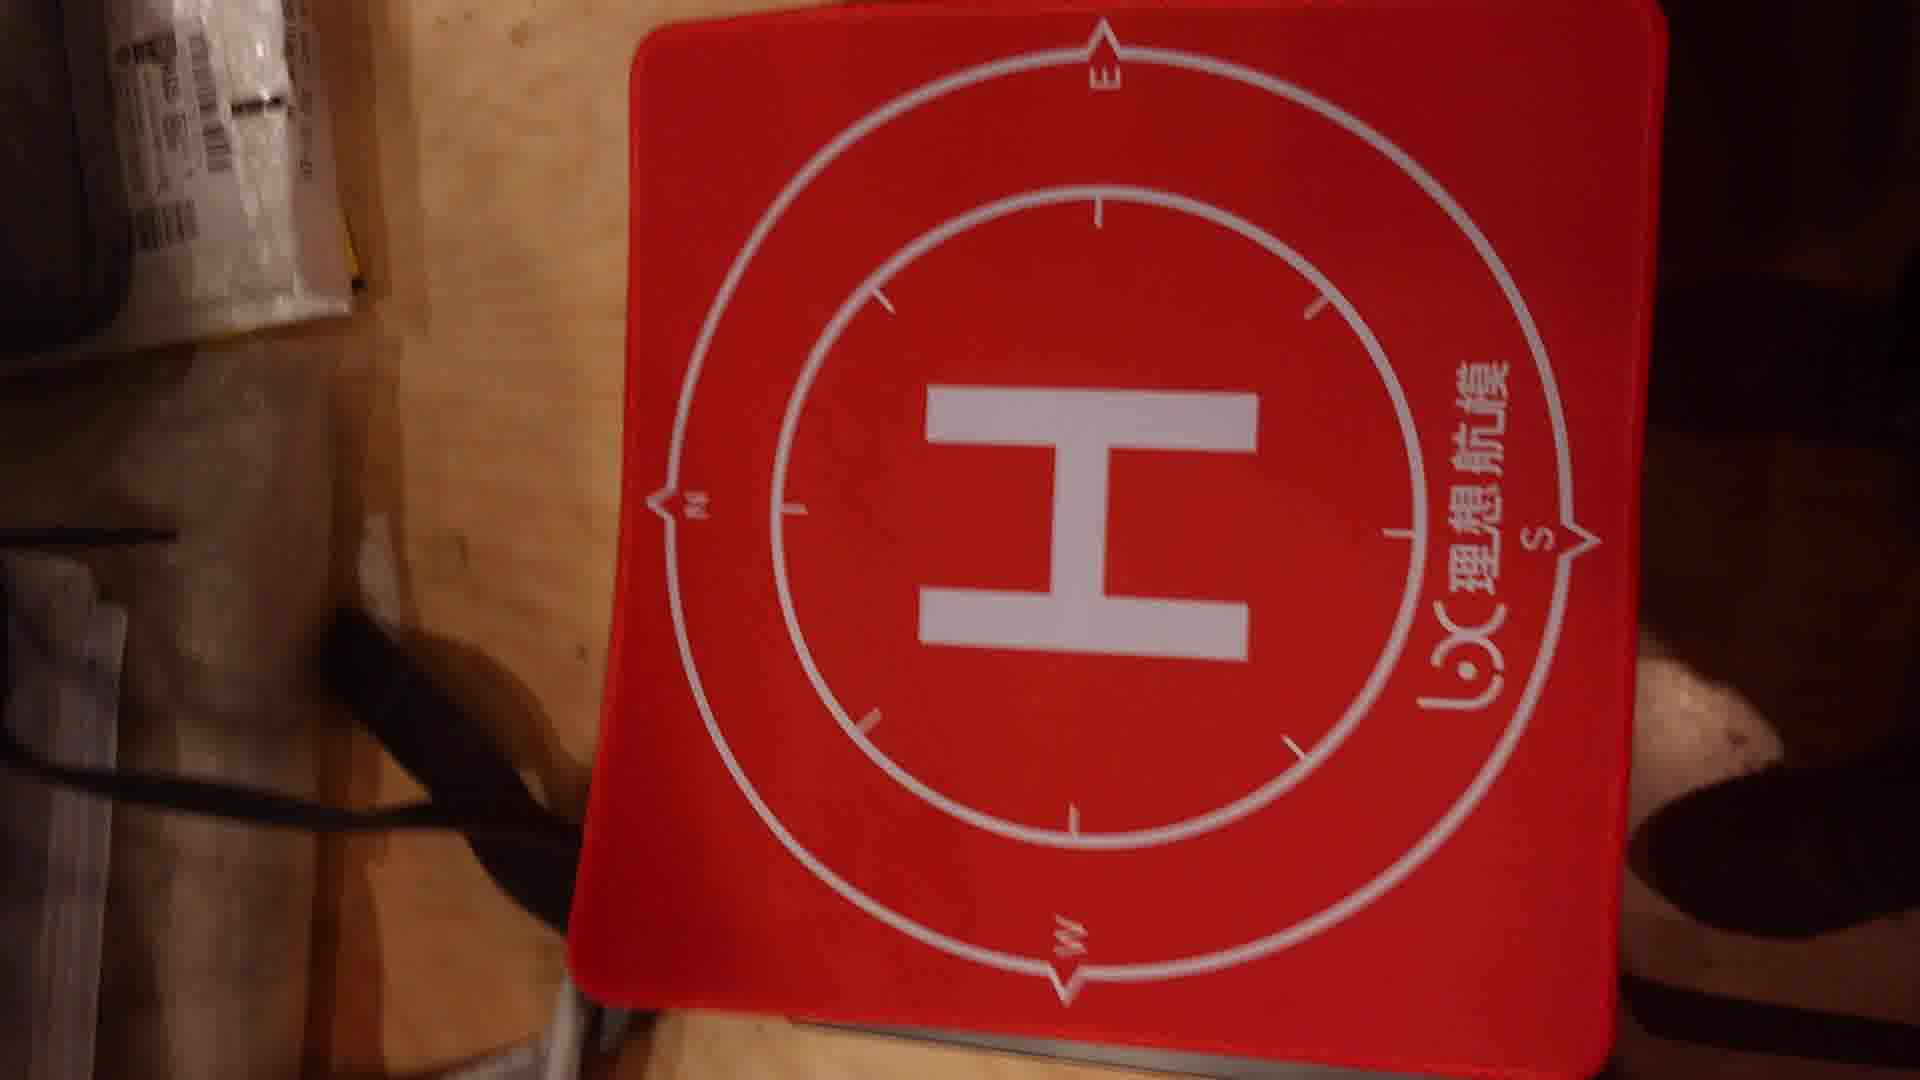H: (916, 386, 1259, 669)
